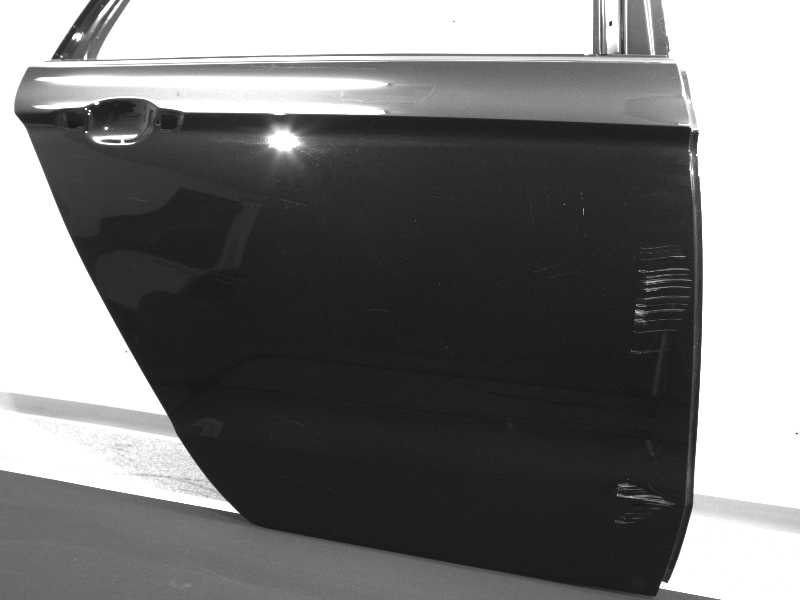scratch: (629, 241, 693, 355), (212, 270, 247, 287), (544, 187, 555, 238), (273, 413, 305, 428), (580, 187, 588, 238), (424, 193, 462, 203), (534, 261, 563, 274), (527, 189, 535, 227), (281, 199, 307, 208), (126, 195, 150, 203), (367, 307, 389, 313), (282, 476, 302, 482), (72, 179, 84, 183)
